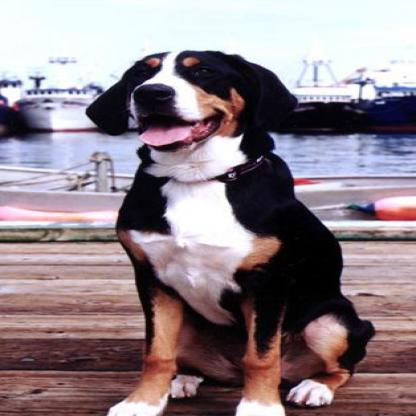Greater_Swiss_Mountain_dog: (82, 49, 378, 414)
